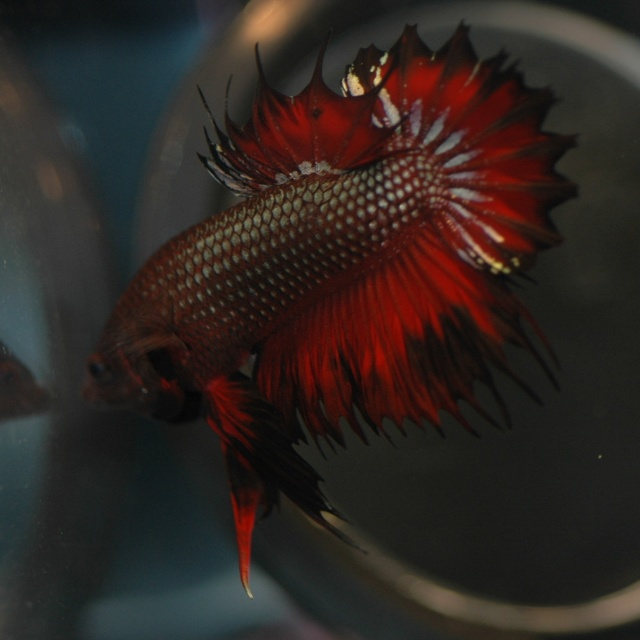Fish: (81, 24, 578, 589)
